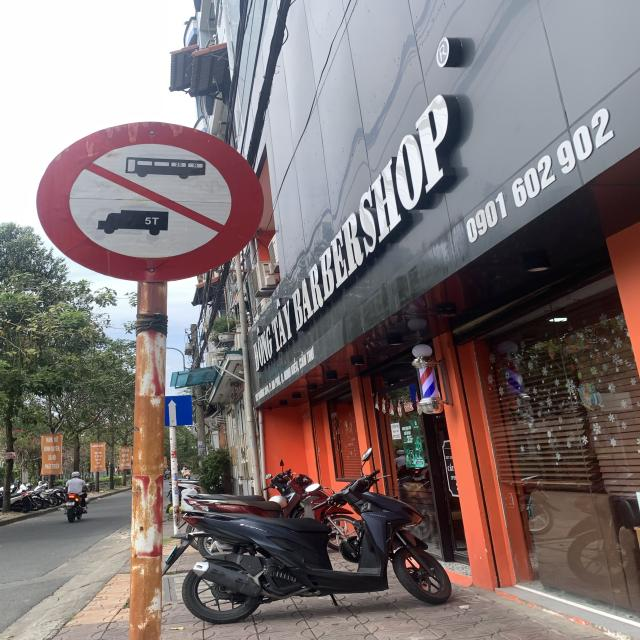Cam_XeTai_XeKhach: (33, 118, 267, 284)
